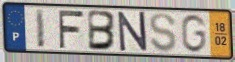B: (88, 9, 118, 52)
F: (56, 9, 85, 50)
G: (179, 13, 208, 55)
I: (34, 7, 47, 50)
N: (116, 10, 149, 53)
S: (148, 11, 178, 54)
